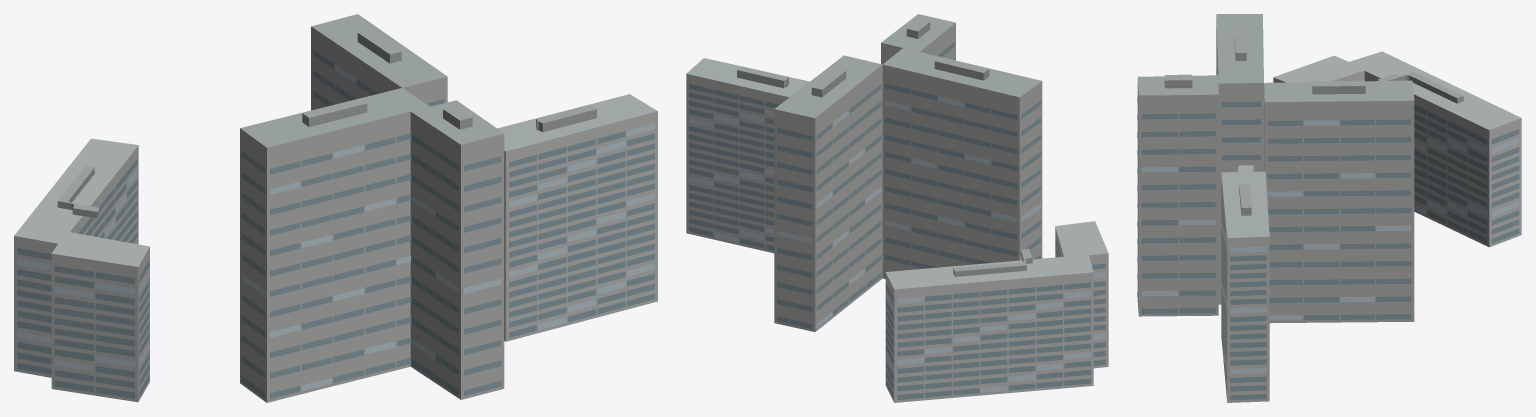
Rendered from apt-a13185603.glb.
The picture shows the model from 3 angles, left to right: view 1: azimuth 30°, elevation 25°; view 2: azimuth 150°, elevation 25°; view 3: azimuth 270°, elevation 25°; orthographic projection. The views are drawn at different scales.
Visible parts, largest first — view 1: apt-a13185603; view 2: apt-a13185603; view 3: apt-a13185603.
Boxes of the visible parts, x1,y1,x2,y2 form: apt-a13185603: (14,14,657,402); apt-a13185603: (686,14,1108,402); apt-a13185603: (1137,14,1521,402).
Bounding box in the file's own units: 151 × 69 × 105.
